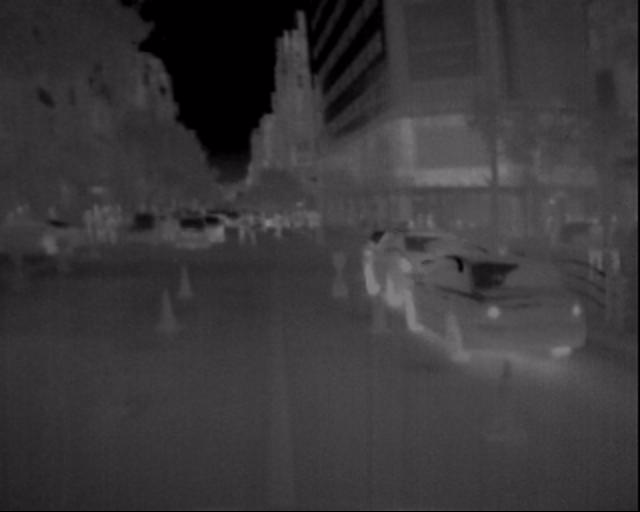person: (231, 204, 293, 250), (603, 207, 637, 281), (584, 208, 614, 281)
